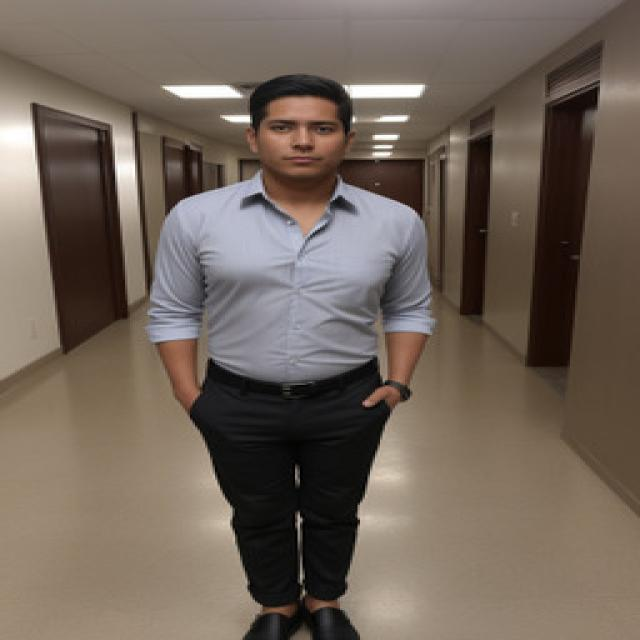Ai human 2: (123, 48, 435, 640)
